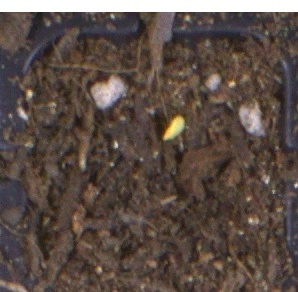chilli seed: (160, 114, 185, 141)
